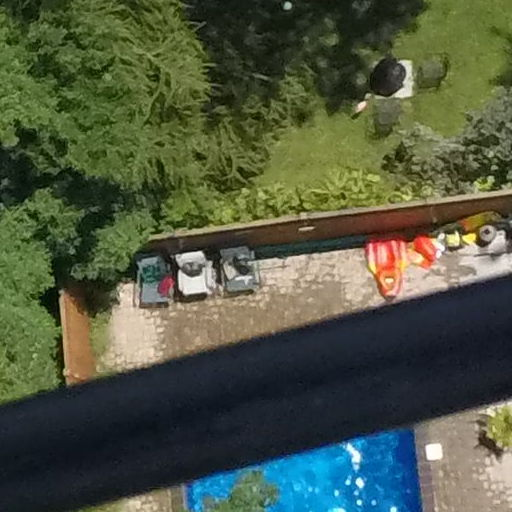container: (476, 225, 499, 245)
toy: (362, 236, 408, 304)
